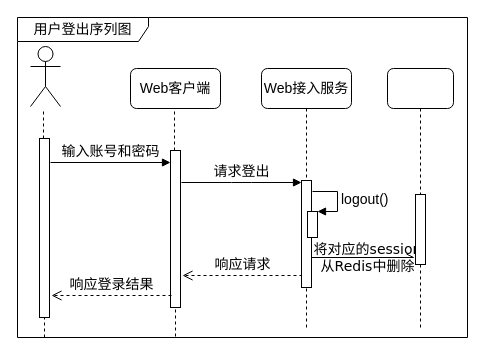
Image size: 485x356. Some labels were removed from this diagram. The centre of each missing label's shape, as x and y in pixels:
Redis: (420,88)
用户: (45,76)
